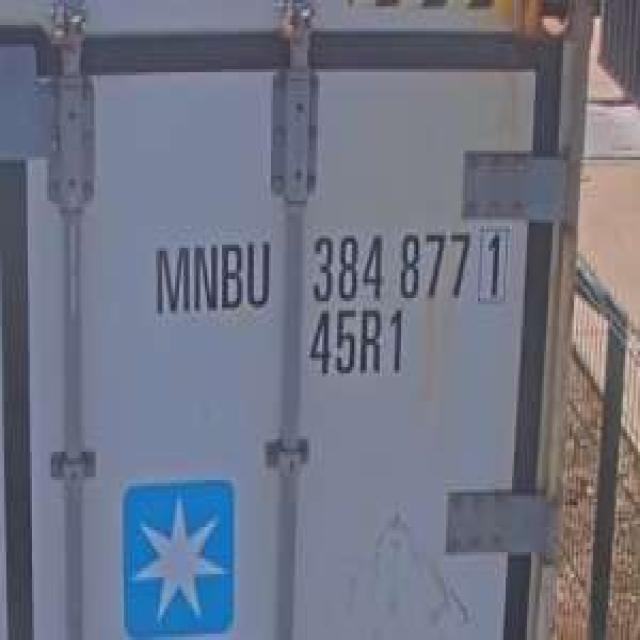dv: (477, 222, 511, 307)
owner: (146, 230, 274, 320)
serial: (304, 223, 474, 306)
size: (303, 308, 405, 381)
